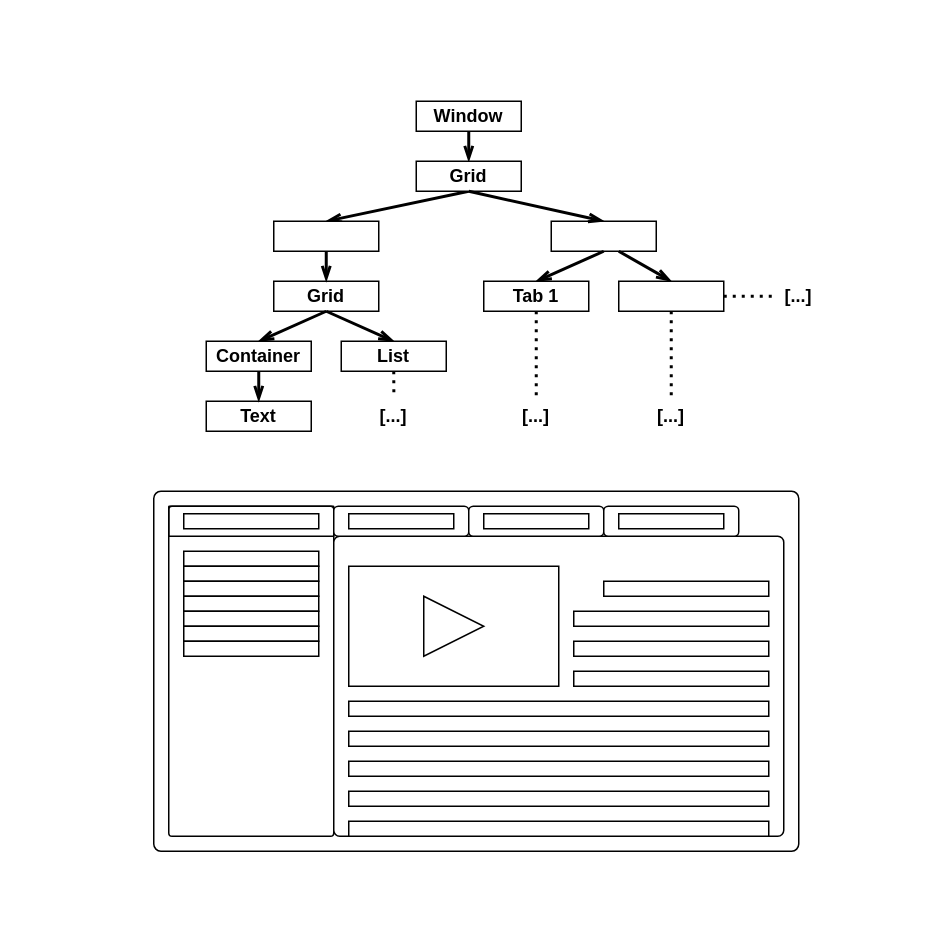
Image size: 951x951. Some labels were removed from this diagram. The centre of each missing label's shape, as x and y in pixels:
Panel: (x=325, y=235)
Tab 2: (x=670, y=295)
Tabs: (x=603, y=235)
